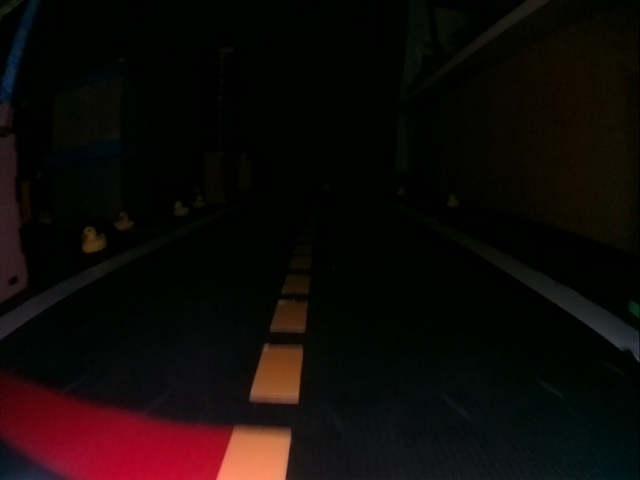Duckie: (81, 226, 105, 252), (114, 213, 134, 230), (174, 202, 189, 217), (448, 194, 458, 207)
